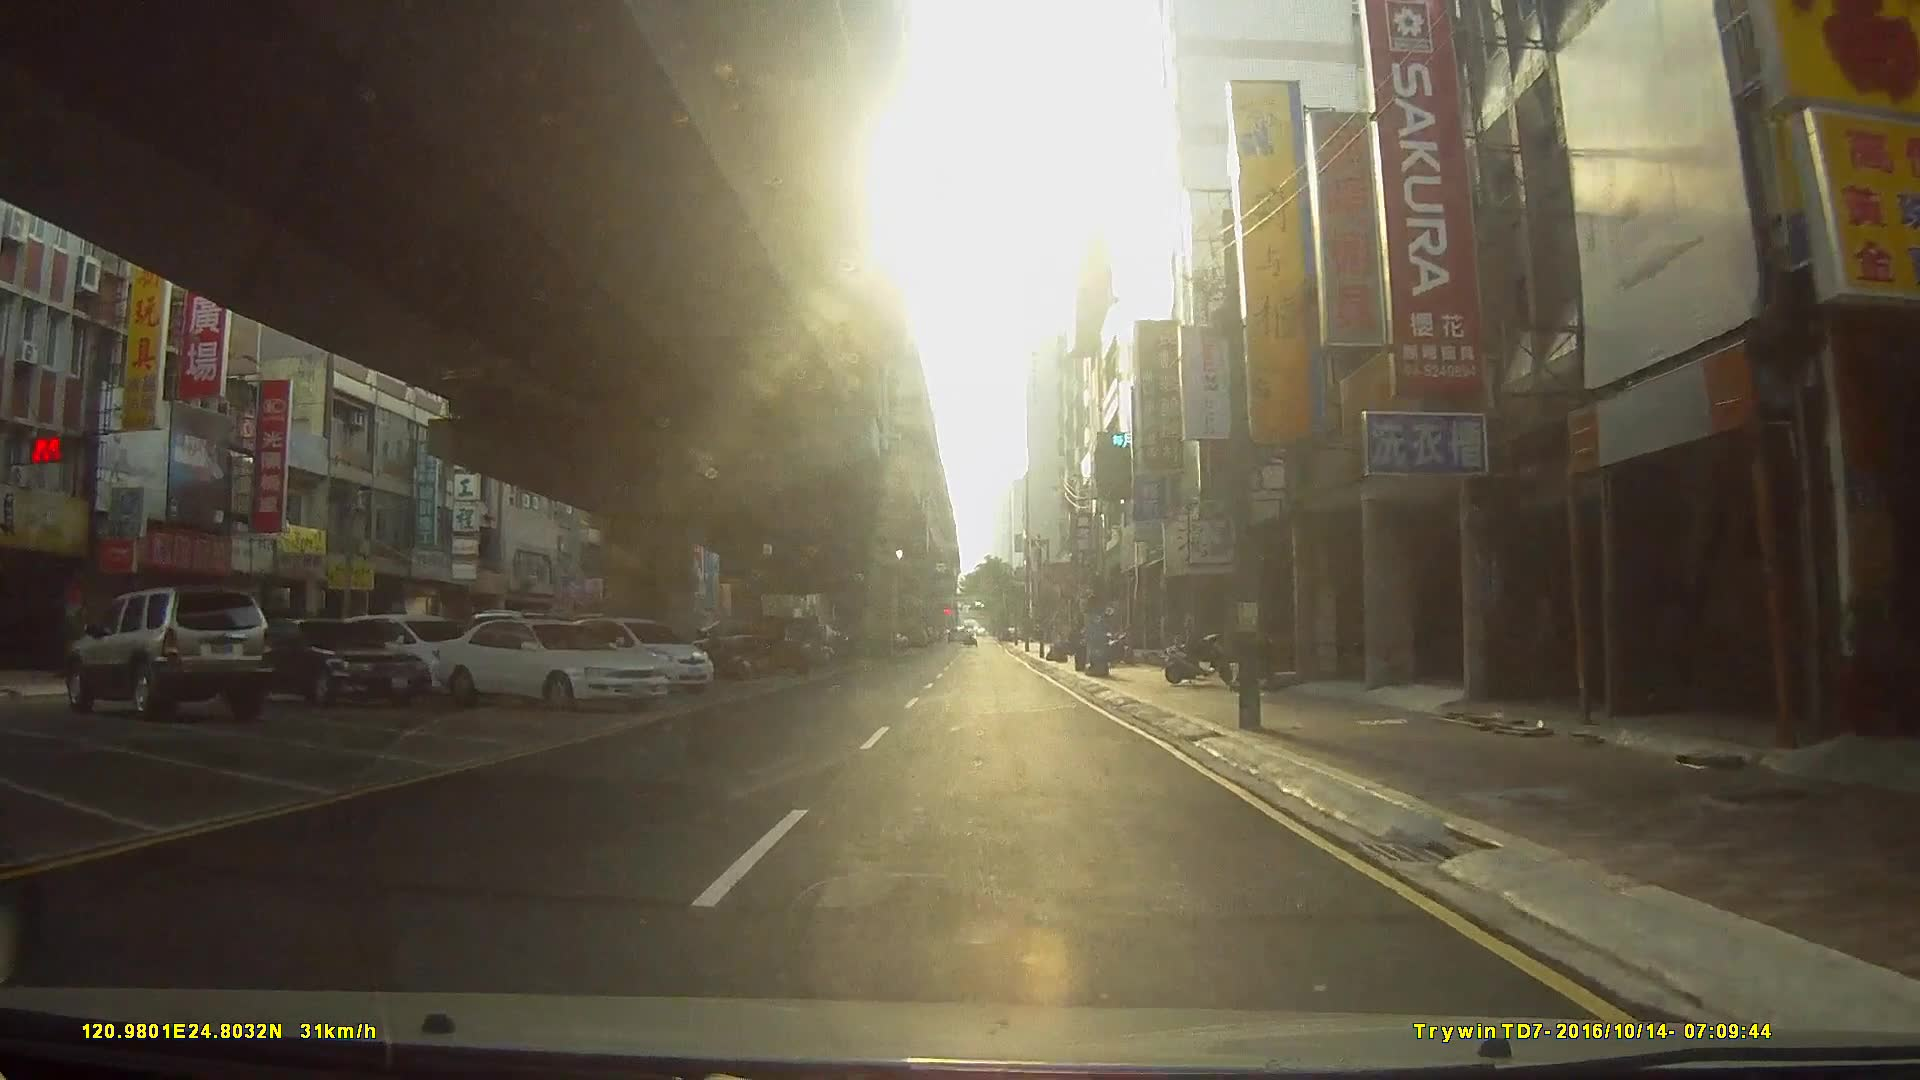vehicle: (61, 585, 272, 717), (429, 615, 671, 712), (206, 618, 427, 711), (555, 617, 712, 700)
